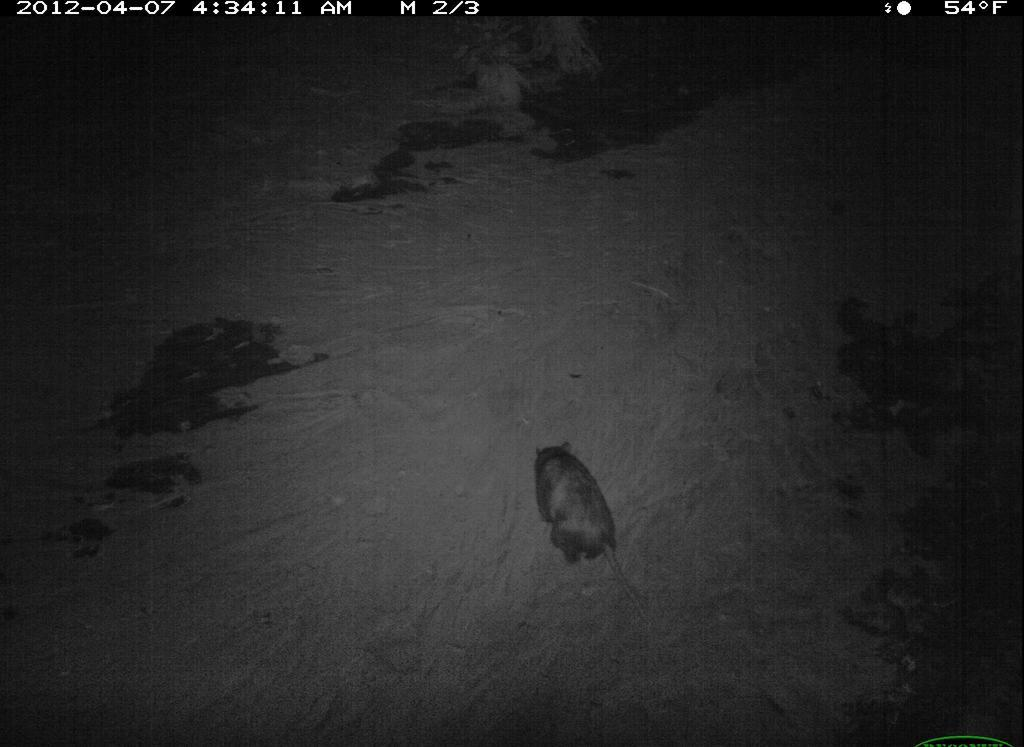opossum: (519, 427, 683, 637)
